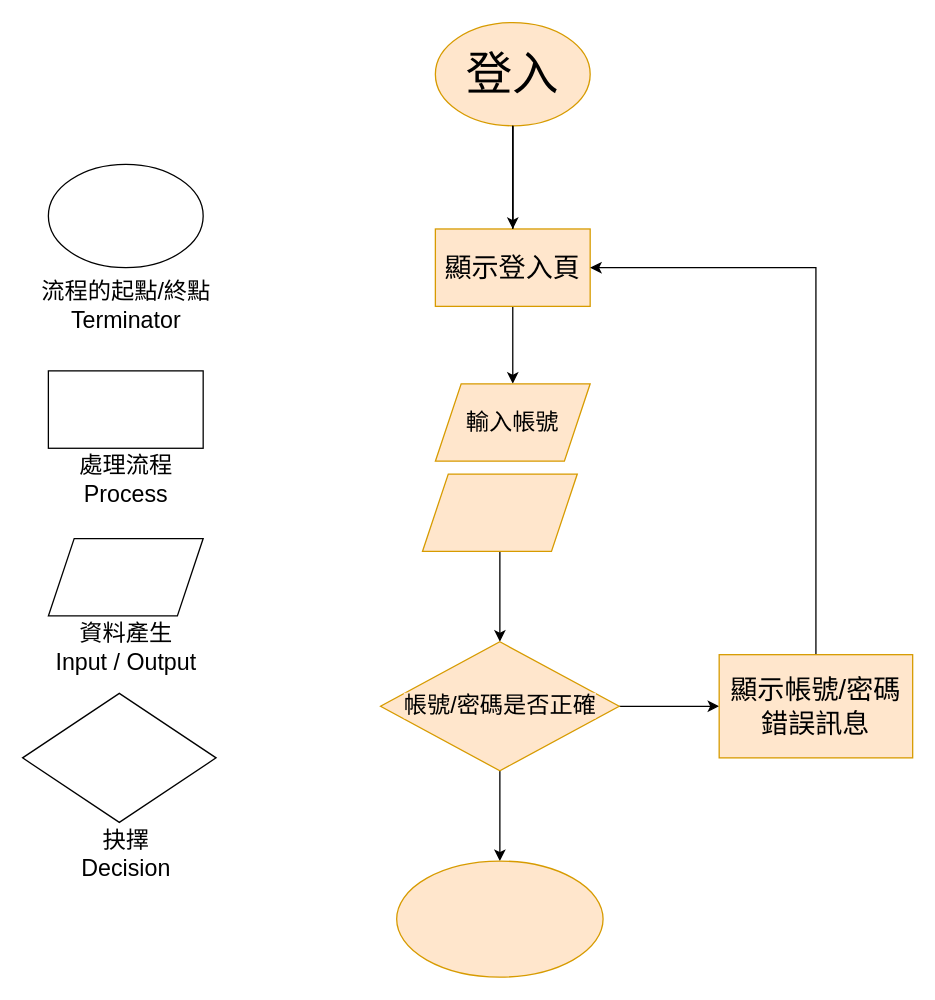
This 935x1000 diagram has some shape labels left out. The centre of each missing label's shape, as x and y in pixels:
"輸入密碼" goes at point (499, 512).
"進入會員資訊網頁" goes at point (499, 918).
